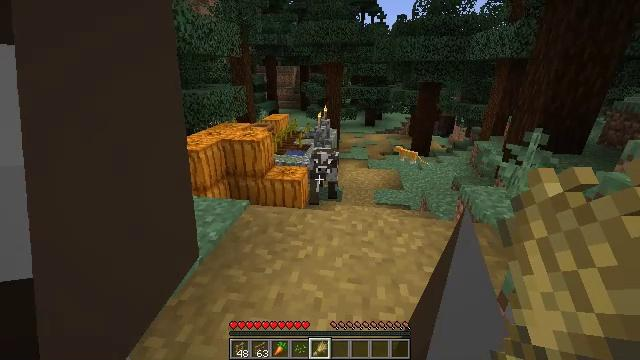cow: (308, 150, 342, 205)
